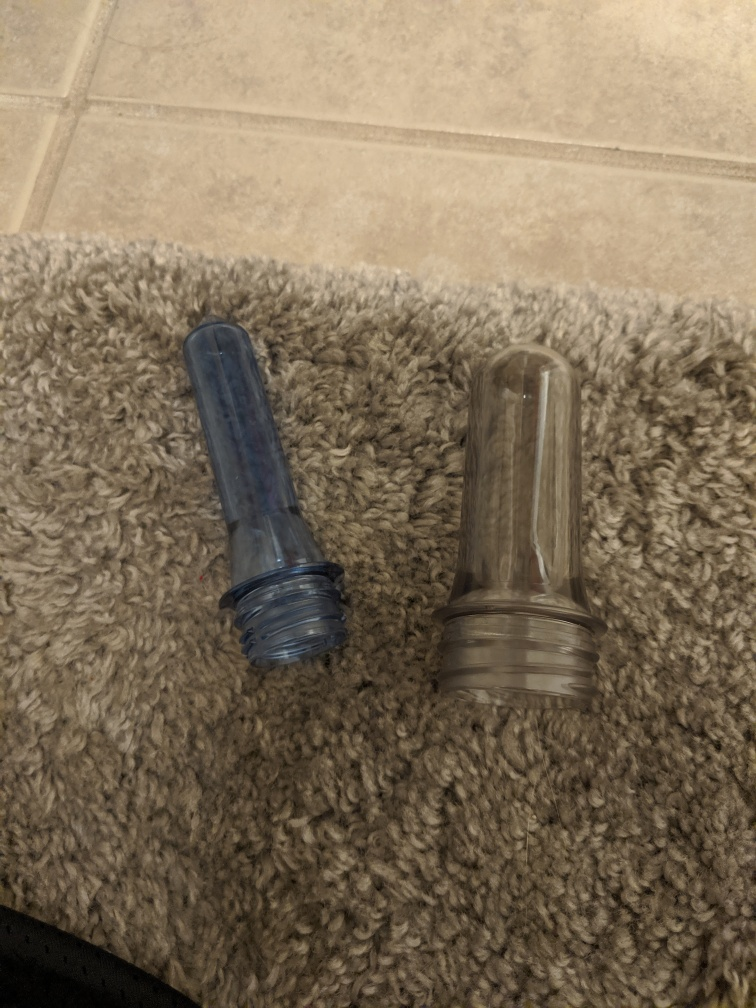preform: (426, 332, 614, 723), (179, 305, 361, 672)
